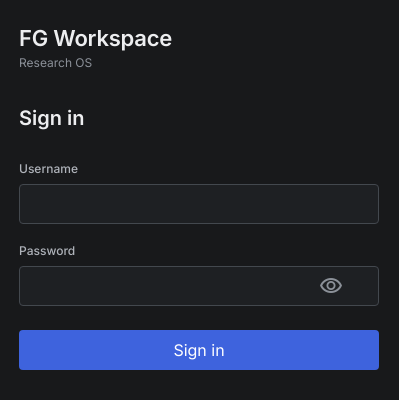
Test case: LoginPage › renders the canonical compact error on backend auth failure
expect the button "Sign in" is enabled: met, box [19,330,379,370]
Type "alex" into the field labelled "Username" at (199, 204), box [19,184,379,224]
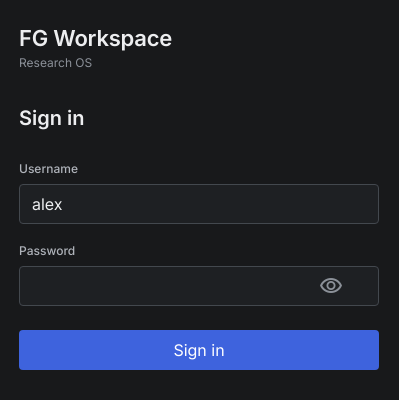
Type "wrong-password" into the password field labelled "Password" at (199, 286), box [19,266,379,306]
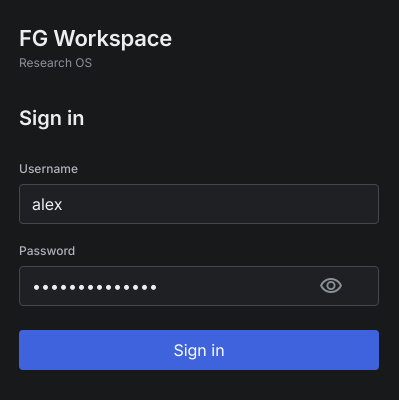
Click the button "Sign in" at (199, 350), box [19,330,379,370]
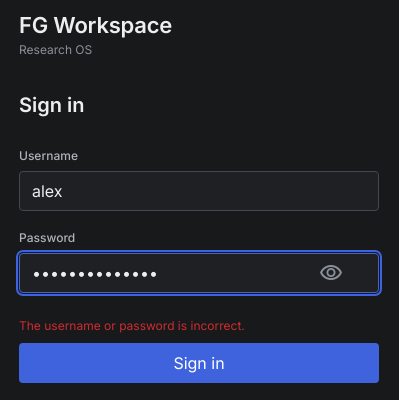
expect the button "Sign in" is enabled: met, box [19,343,379,383]
expect the message reads "The username or password is incorrect.": met, box [19,318,245,333]
